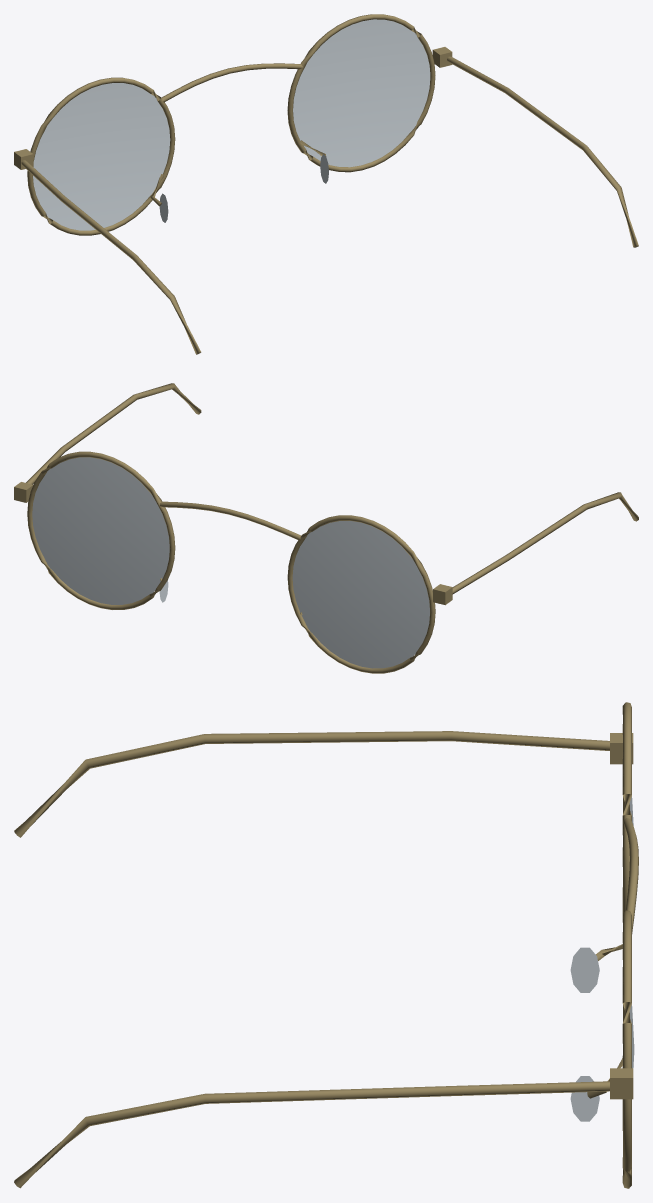
The model's file is glasses_shangshi.glb.
3 renders of one model, top to bottom at view 1: azimuth 30°, elevation 25°; view 2: azimuth 150°, elevation 25°; view 3: azimuth 270°, elevation 25°, orthographic. The views are drawn at different scales.
Parts seen in each view (by area): view 1: glasses_lens, glasses_frame; view 2: glasses_lens, glasses_frame; view 3: glasses_frame, glasses_lens.
Part boxes in pixels (box(x1,y1,x2,y2)): glasses_lens: box(33, 19, 430, 230); glasses_frame: box(14, 14, 638, 354); glasses_lens: box(32, 457, 429, 668); glasses_frame: box(14, 383, 638, 673); glasses_frame: box(14, 702, 638, 1188); glasses_lens: box(570, 796, 634, 1121).
Size of the model in its own units: 0.1469 by 0.0475 by 0.1066.
